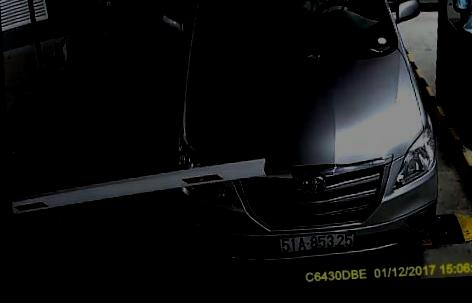License_Plate: (280, 229, 357, 258)
